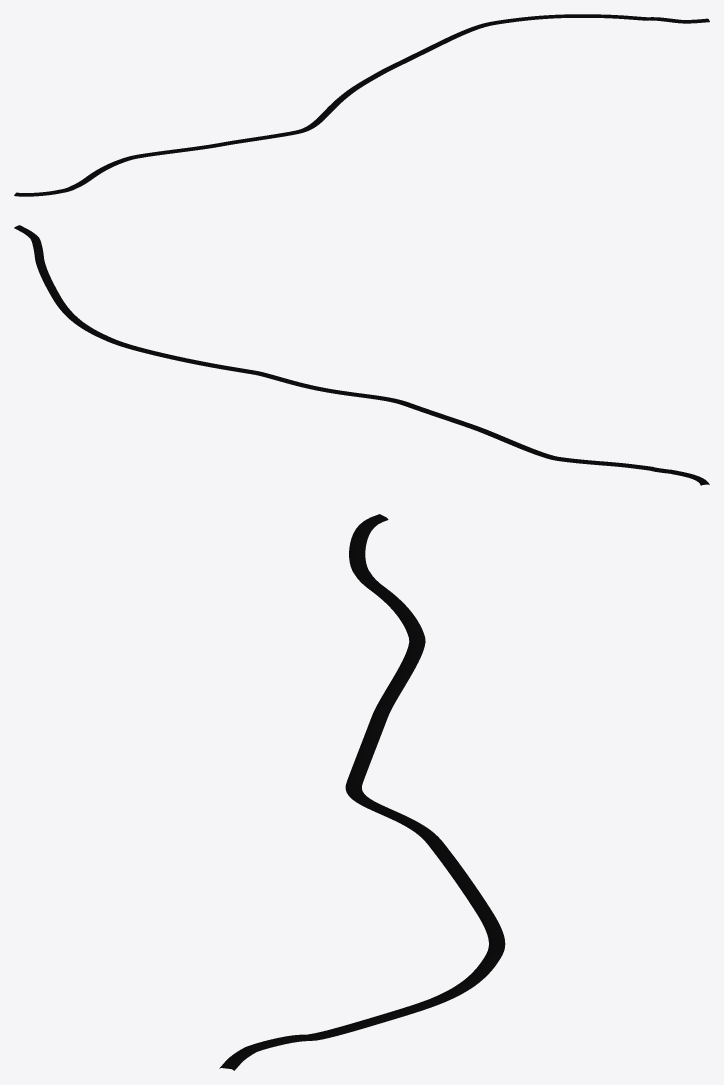
File: schiene_b.glb
3 renders of one model, top to bottom at view 1: azimuth 30°, elevation 25°; view 2: azimuth 150°, elevation 25°; view 3: azimuth 270°, elevation 25°, orthographic. The views are drawn at different scales.
Parts seen in each view (by area): view 1: invisible.png__; view 2: invisible.png__; view 3: invisible.png__.
Boxes of the visible parts, x1,y1,x2,y2 form: invisible.png__: (14, 14, 709, 196); invisible.png__: (14, 225, 709, 485); invisible.png__: (219, 514, 505, 1070).
Bounding box in the file's own units: 433 × 28.93 × 81.58.
Materials: 1 (1 with a texture image).
